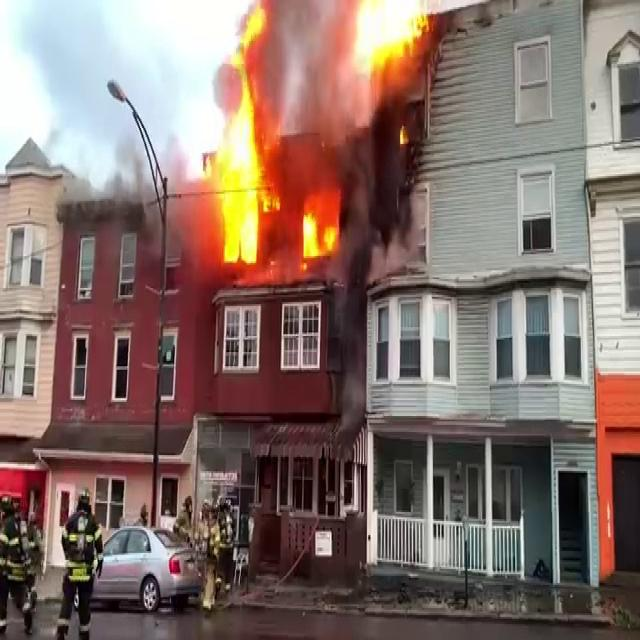Fire: (200, 2, 282, 270), (344, 0, 437, 84), (298, 192, 344, 272)
Smoke: (79, 71, 198, 238)
